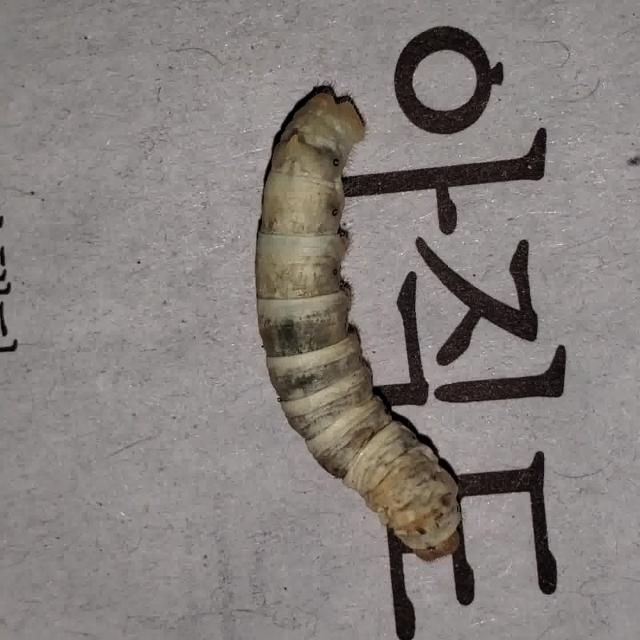Grasserie: (240, 73, 489, 568)
